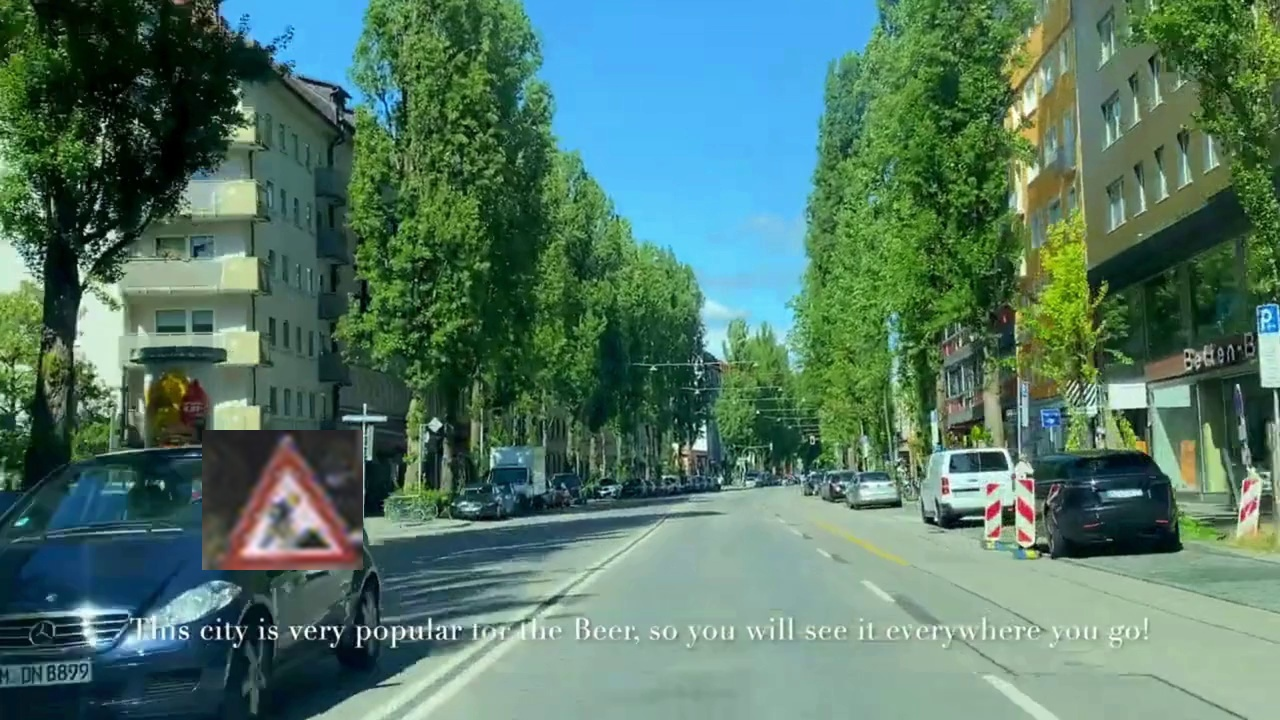Road work: (202, 430, 363, 570)
